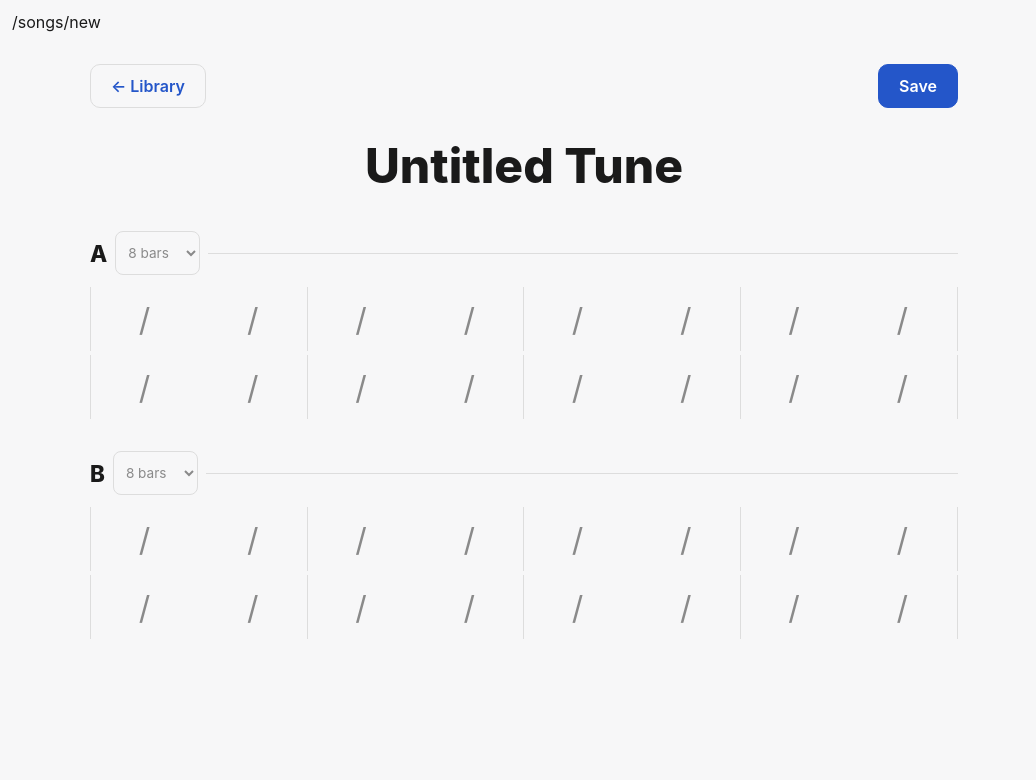
SongEditorPage — creating a new song › shows an error and stays on the page if saving fails
Click the button "Save" at (918, 86), box 878,64 -> 958,108
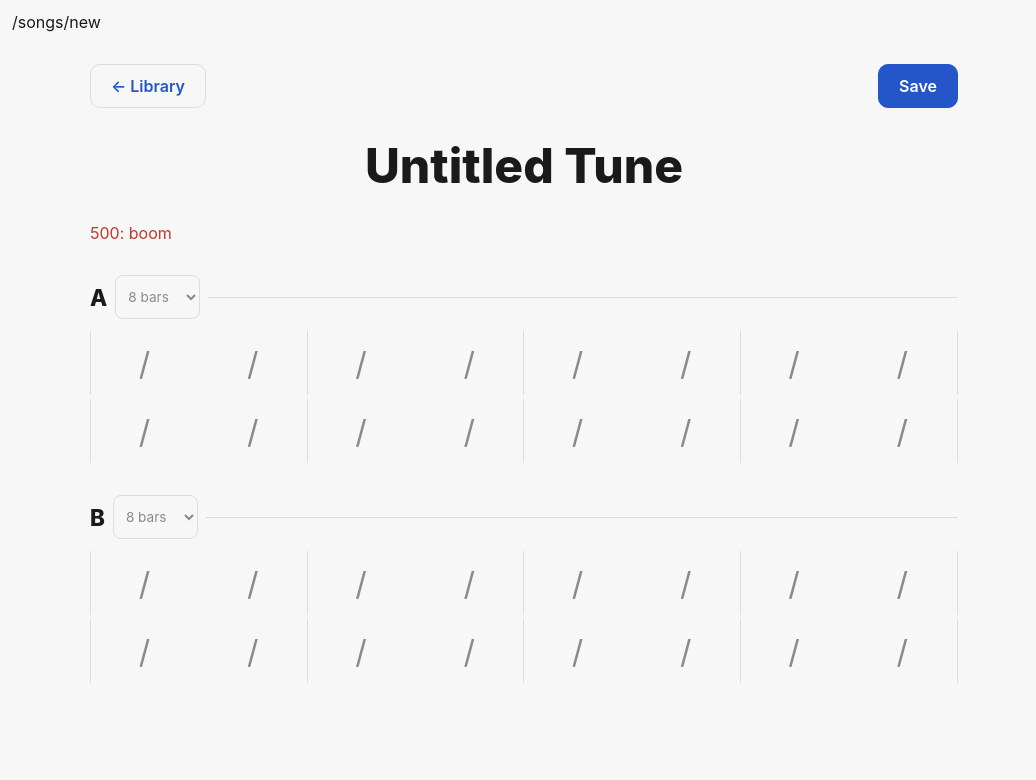
Expected: the text with test id "location" reads "/songs/new", 12,12 -> 101,32
Expected: the message reads "500: boom", 90,223 -> 172,243
